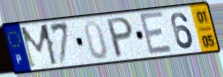0: (84, 19, 109, 62)
6: (170, 12, 195, 51)
7: (49, 20, 71, 67)
E: (138, 10, 175, 58)
M: (18, 22, 61, 71)
P: (106, 16, 135, 61)
